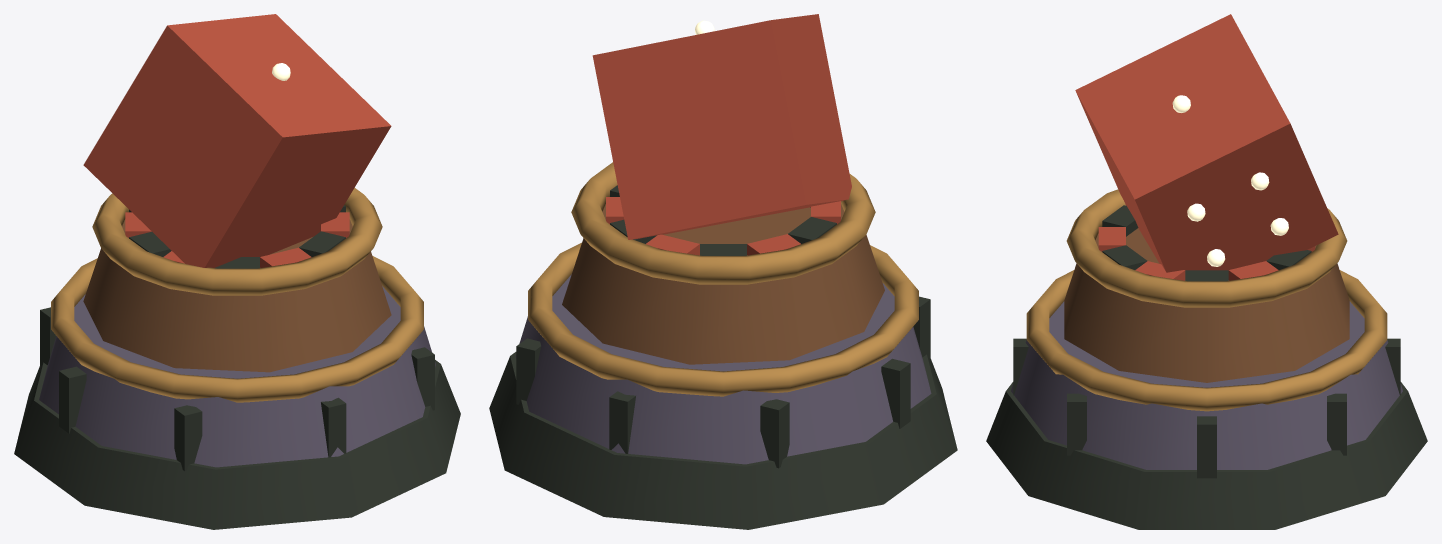
File: tower_gamble_gambleHigh.glb
The picture shows the model from 3 angles, left to right: view 1: azimuth 30°, elevation 25°; view 2: azimuth 150°, elevation 25°; view 3: azimuth 270°, elevation 25°; orthographic projection. The views are drawn at different scales.
Parts seen in each view (by area): view 1: die_25, foot_0, stone_1, table_11, rim_2, roulette_rim_12, mortar_6, mortar_7, mortar_5, mortar_4, mortar_8, pocket_18 (+3 smaller); view 2: die_25, foot_0, table_11, stone_1, rim_2, roulette_rim_12, mortar_8, mortar_7, mortar_9, mortar_10, mortar_6, pocket_22 (+3 smaller); view 3: die_25, foot_0, stone_1, table_11, rim_2, roulette_rim_12, mortar_3, mortar_4, mortar_10, pocket_18, pocket_19, pocket_15 (+5 smaller).
Boxes of the visible parts, x1,y1,x2,y2 form: die_25: (83,14,391,267); foot_0: (14,360,460,529); stone_1: (39,286,435,467); table_11: (83,219,391,372); rim_2: (51,256,423,402); roulette_rim_12: (92,188,382,295); mortar_6: (174,405,202,471); mortar_7: (59,366,86,433); mortar_5: (321,397,346,457); mortar_4: (411,347,434,410); mortar_8: (40,307,56,366); pocket_18: (299,231,345,256); die_25: (592,14,851,239); foot_0: (489,352,957,529); table_11: (562,204,884,364); stone_1: (515,274,931,464); rim_2: (528,242,918,396); roulette_rim_12: (571,162,875,284); mortar_8: (760,399,789,468); mortar_7: (881,358,910,428); mortar_9: (609,391,635,453); mortar_10: (516,338,541,404); mortar_6: (913,296,930,358); pocket_22: (788,217,836,243); die_25: (1075,14,1338,272); foot_0: (986,382,1427,529); stone_1: (1011,301,1402,469); table_11: (1064,228,1349,382); rim_2: (1026,270,1387,411); roulette_rim_12: (1066,189,1347,307); mortar_3: (1197,416,1216,478); mortar_4: (1067,393,1086,455); mortar_10: (1327,393,1346,455); pocket_18: (1102,245,1147,269); pocket_19: (1098,227,1125,251); pocket_15: (1228,261,1278,280).
Bounding box in the file's own units: 0.5326 × 0.5593 × 0.56.
